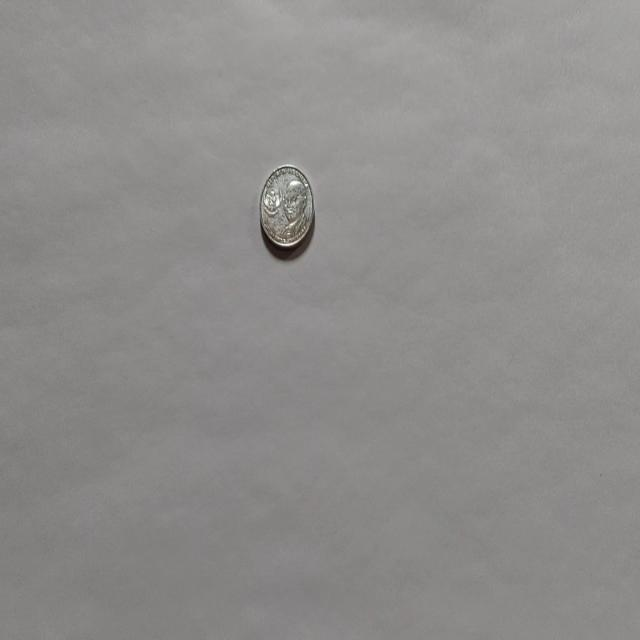lima ratus rupiah: (258, 162, 314, 250)
